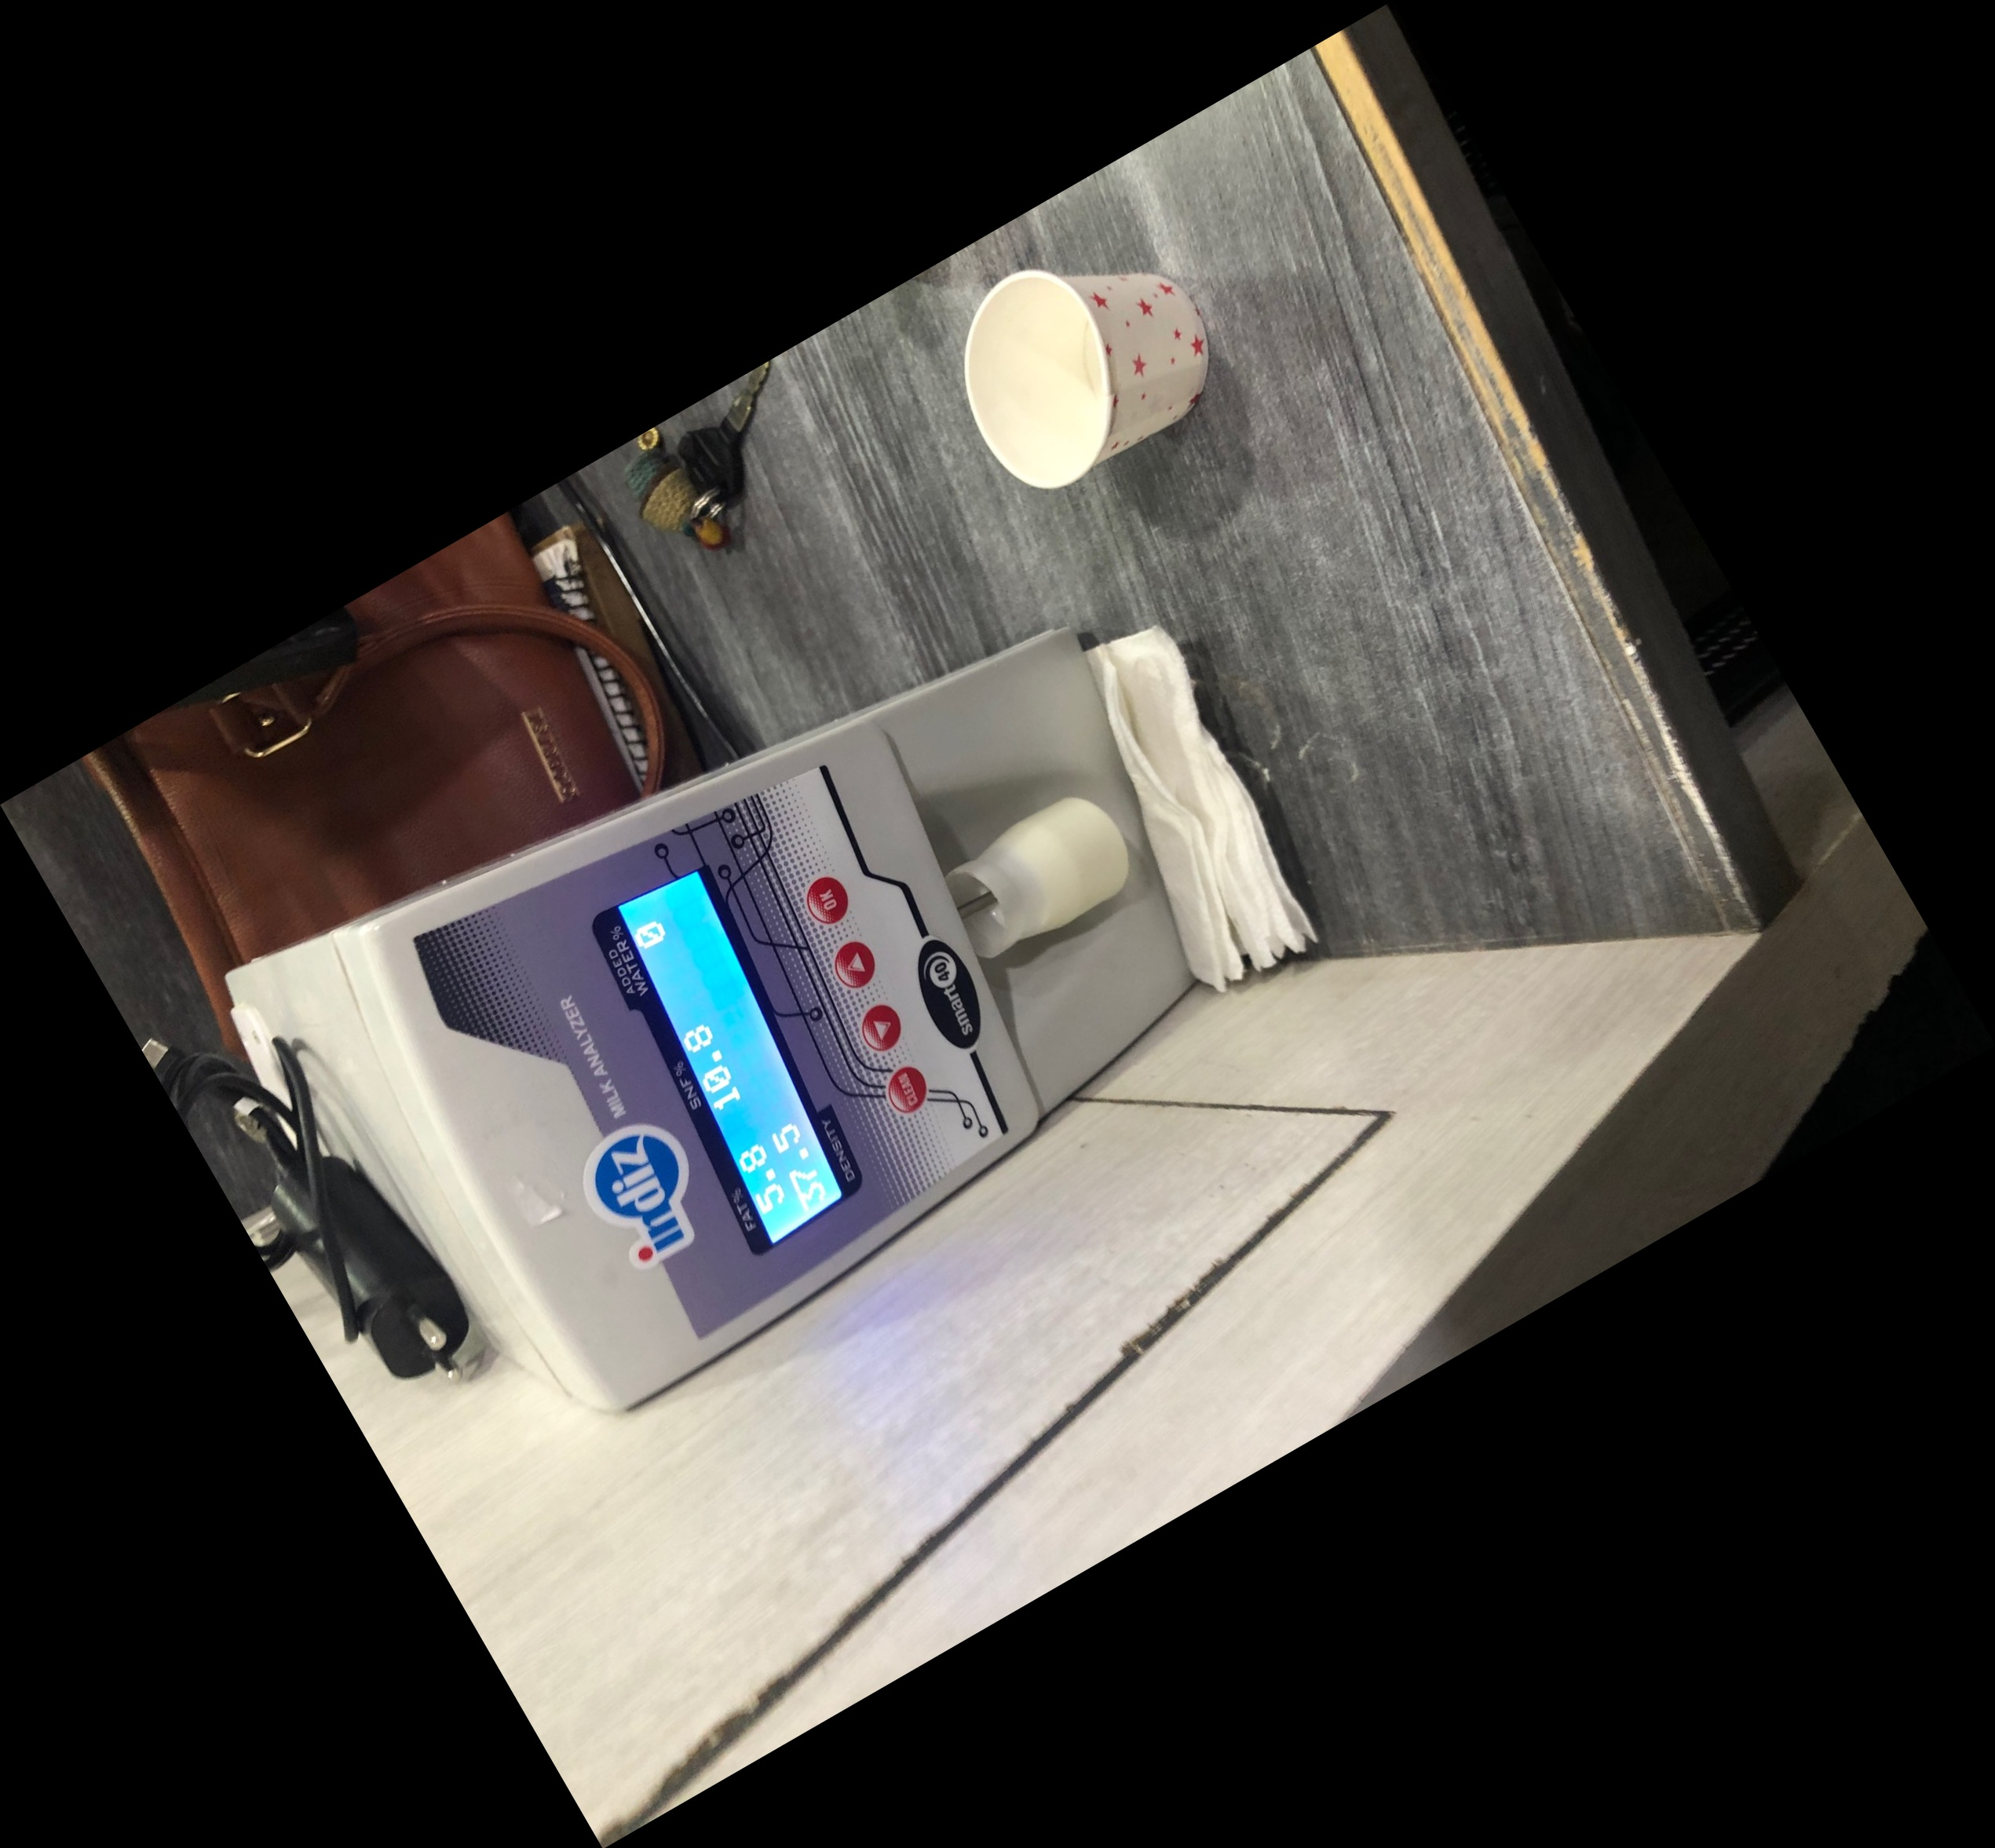lcd: (580, 856, 881, 1285)
